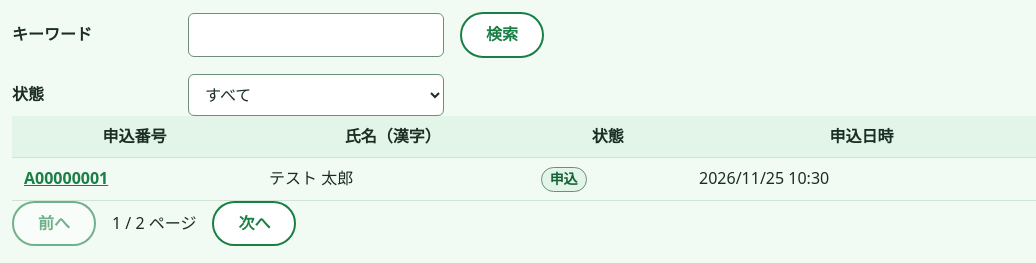
it: 「次へ」で次のページを読み、最後のページでは「次へ」を押せない
This screenshot has width=1036, height=263.
Expected: the text "1 / 2 ページ" is shown, [112,211,196,236]
Click the button "次へ": point(254, 224) [212,201,296,246]
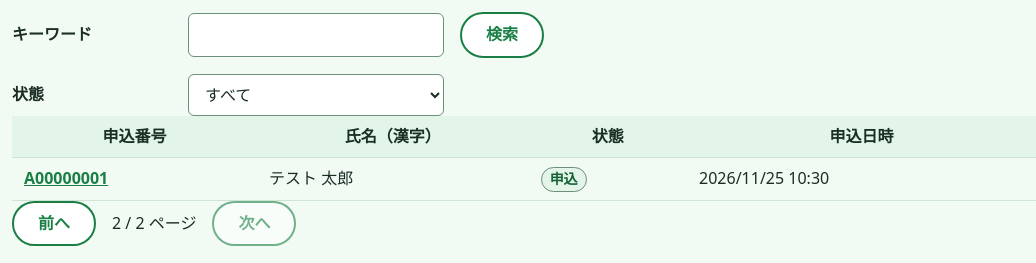
Result: the text "2 / 2 ページ" is shown at [112,211,196,236]
Result: the button "次へ" is disabled at [212,201,296,246]
Result: the button "前へ" is enabled
Click the button "前へ": point(54, 224) [12,201,96,246]
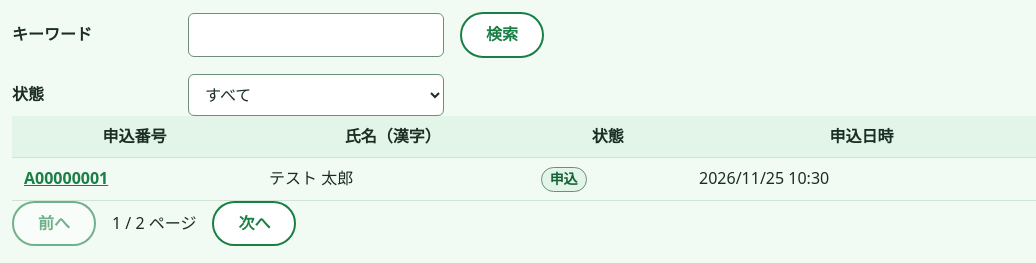
Result: the text "1 / 2 ページ" is shown at [112,211,196,236]
